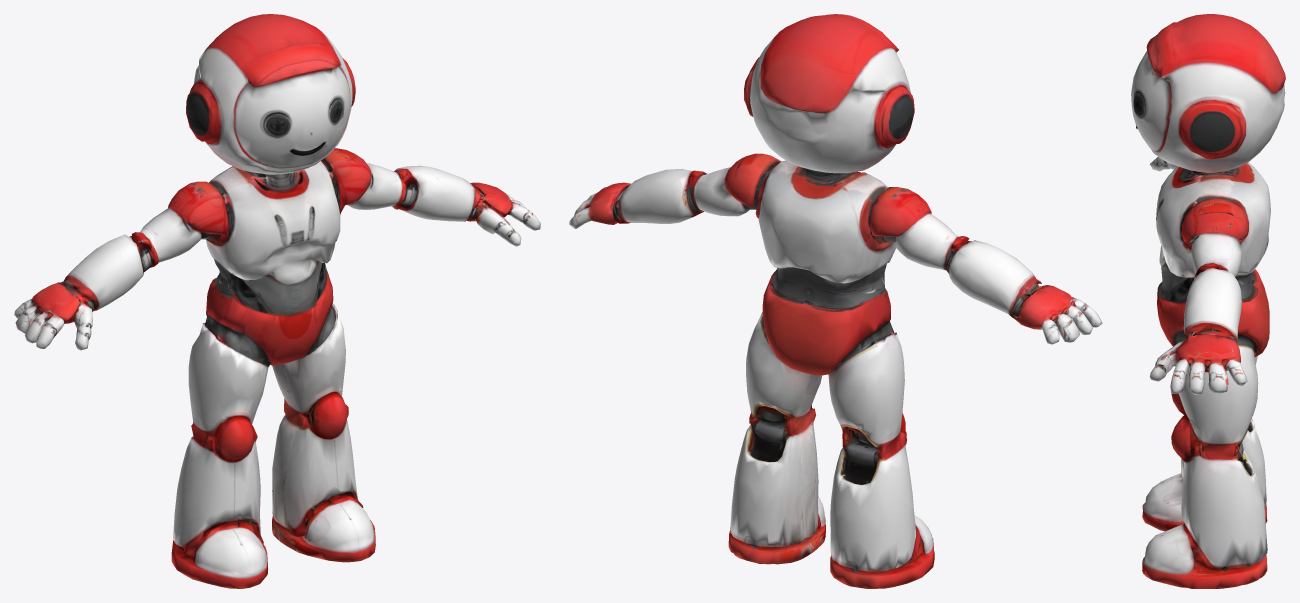
File: Robot_Companion_0526160056_texture (1).glb
3 renders of one model, left to right at view 1: azimuth 30°, elevation 25°; view 2: azimuth 150°, elevation 25°; view 3: azimuth 270°, elevation 25°, orthographic.
Size of the model in its own units: 2 by 2 by 0.5367.
Materials: 1 (1 with a texture image).
